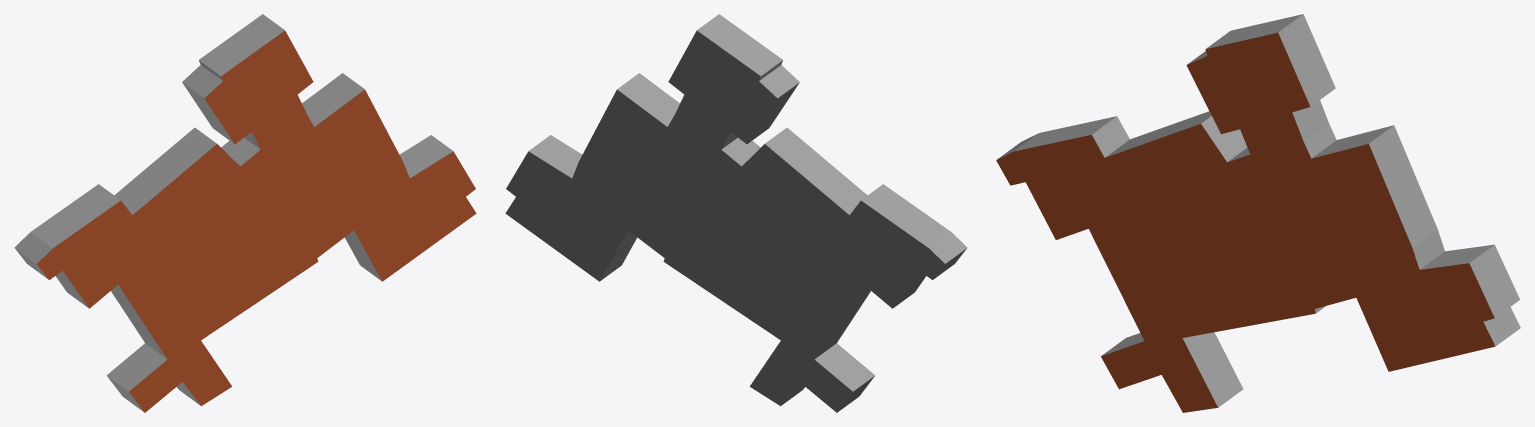
Rendered from construction_7089_assumed_A_Casa_h6m.obj.
The picture shows the model from 3 angles, left to right: view 1: azimuth 30°, elevation 25°; view 2: azimuth 150°, elevation 25°; view 3: azimuth 330°, elevation 25°; orthographic projection. The views are drawn at different scales.
Visible parts, largest first — view 1: construction_7089_assumed_A_Casa; view 2: construction_7089_assumed_A_Casa; view 3: construction_7089_assumed_A_Casa.
Boxes of the visible parts, <box> form: construction_7089_assumed_A_Casa: <box>14,14,476,412</box>; construction_7089_assumed_A_Casa: <box>505,14,967,412</box>; construction_7089_assumed_A_Casa: <box>996,14,1520,412</box>.
Bounding box in the file's own units: 68.14 × 52.62 × 6.
